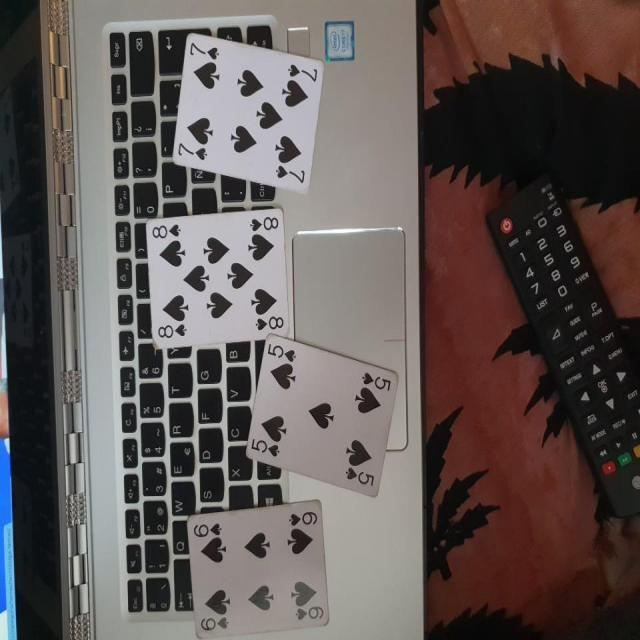5 Spades: (242, 336, 405, 512)
6 Spades: (183, 498, 339, 640)
7 Spades: (168, 31, 327, 197)
8 Spades: (142, 205, 297, 348)
